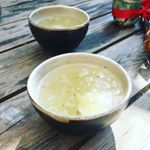cups: (26, 3, 94, 56)
